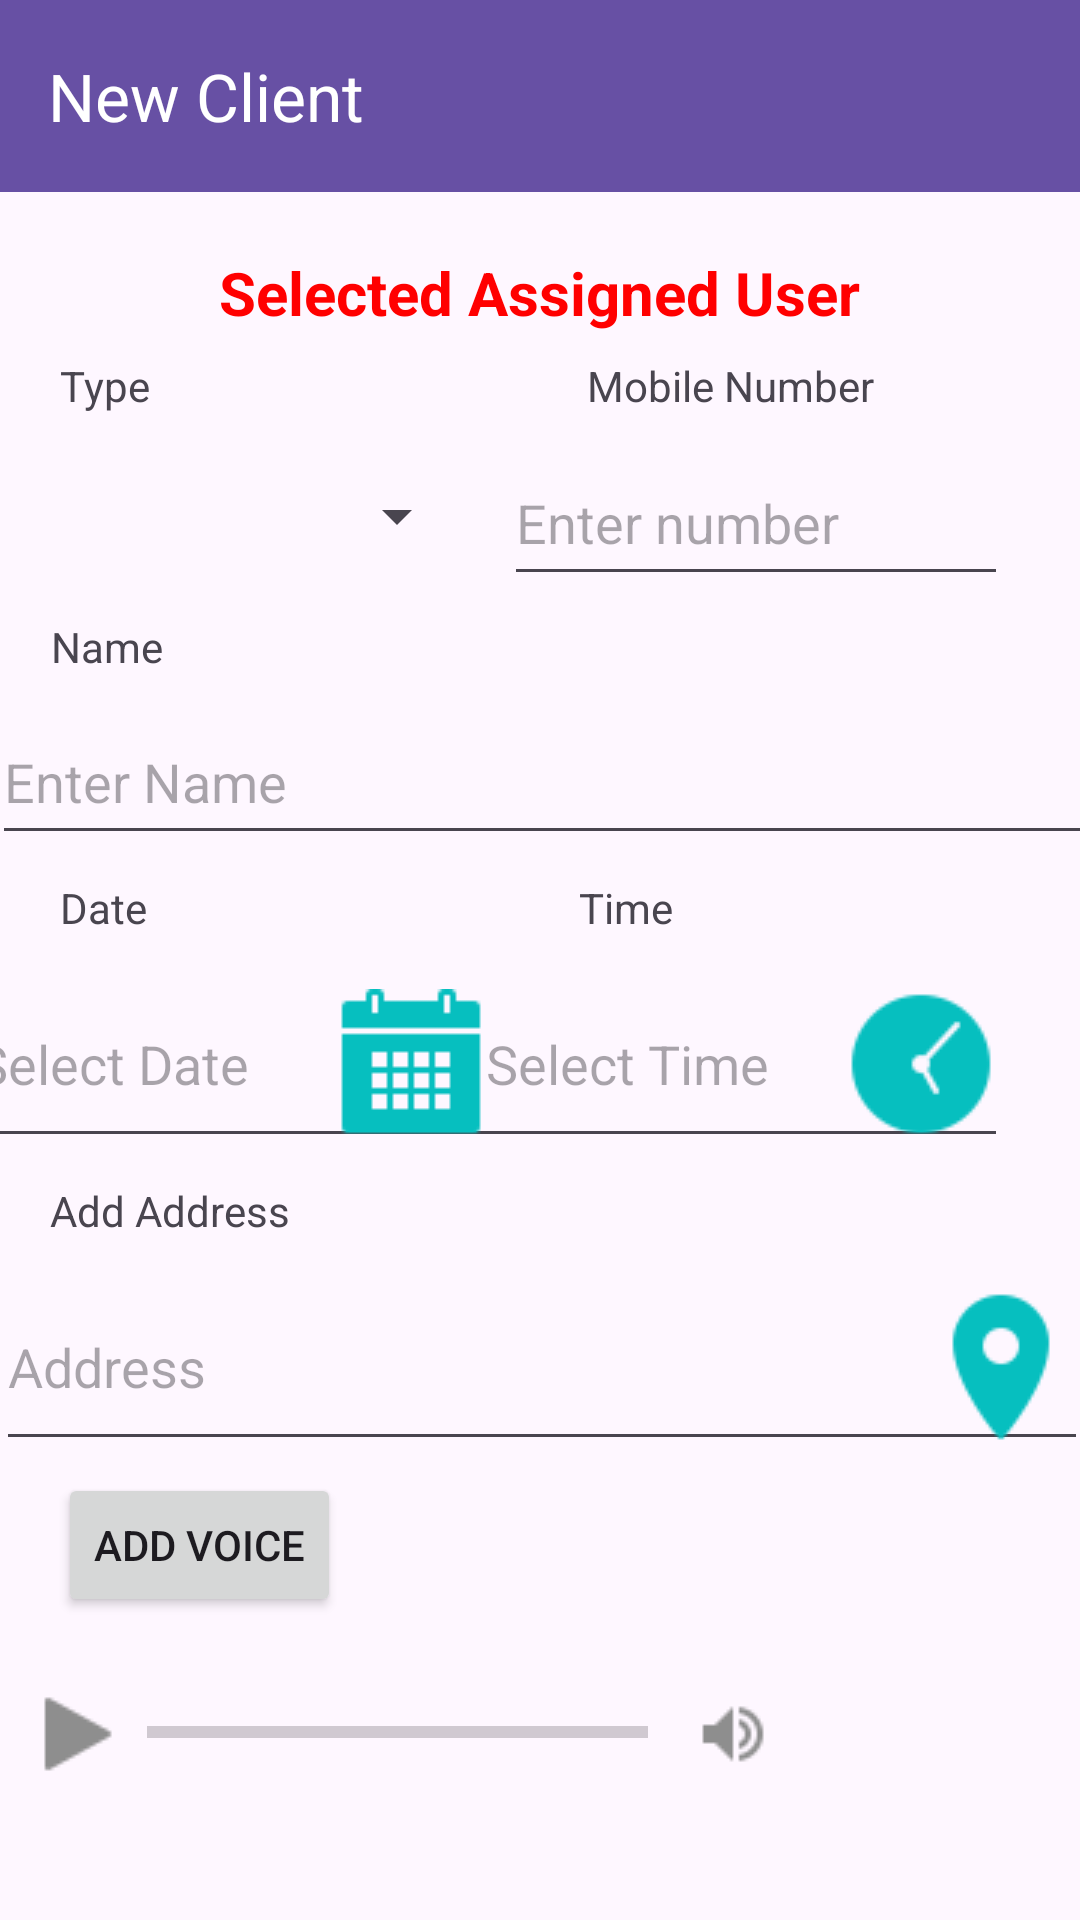

Where to tap for icons on this 1080*1920 app screen, as (x,y):
play: (78,1734)
